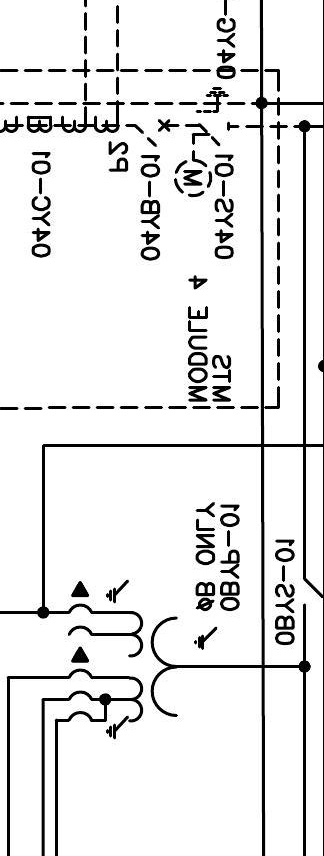115_ds: (302, 578, 323, 608)
115_vt_1p: (67, 579, 219, 741)
